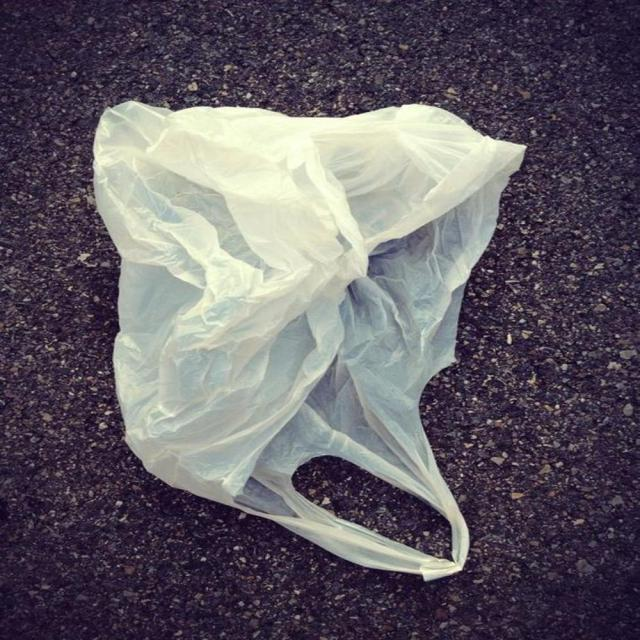Plastic_Bag: (77, 83, 523, 576)
